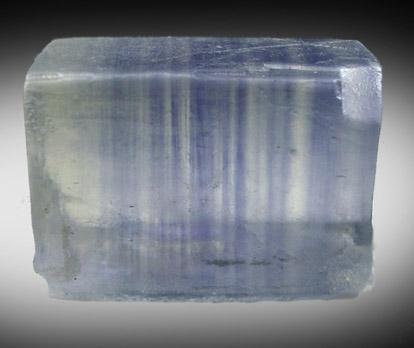halite: (24, 37, 383, 302)
